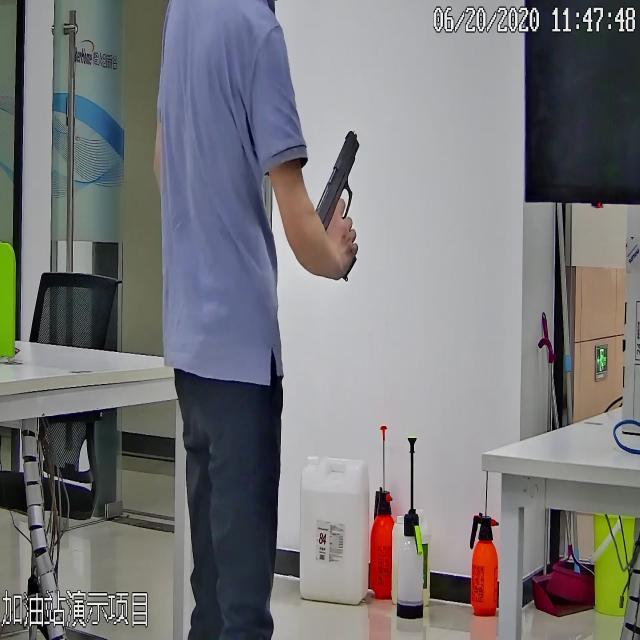gun-knife-thesis - v11 Yolov5 augmented: (310, 124, 370, 284)
